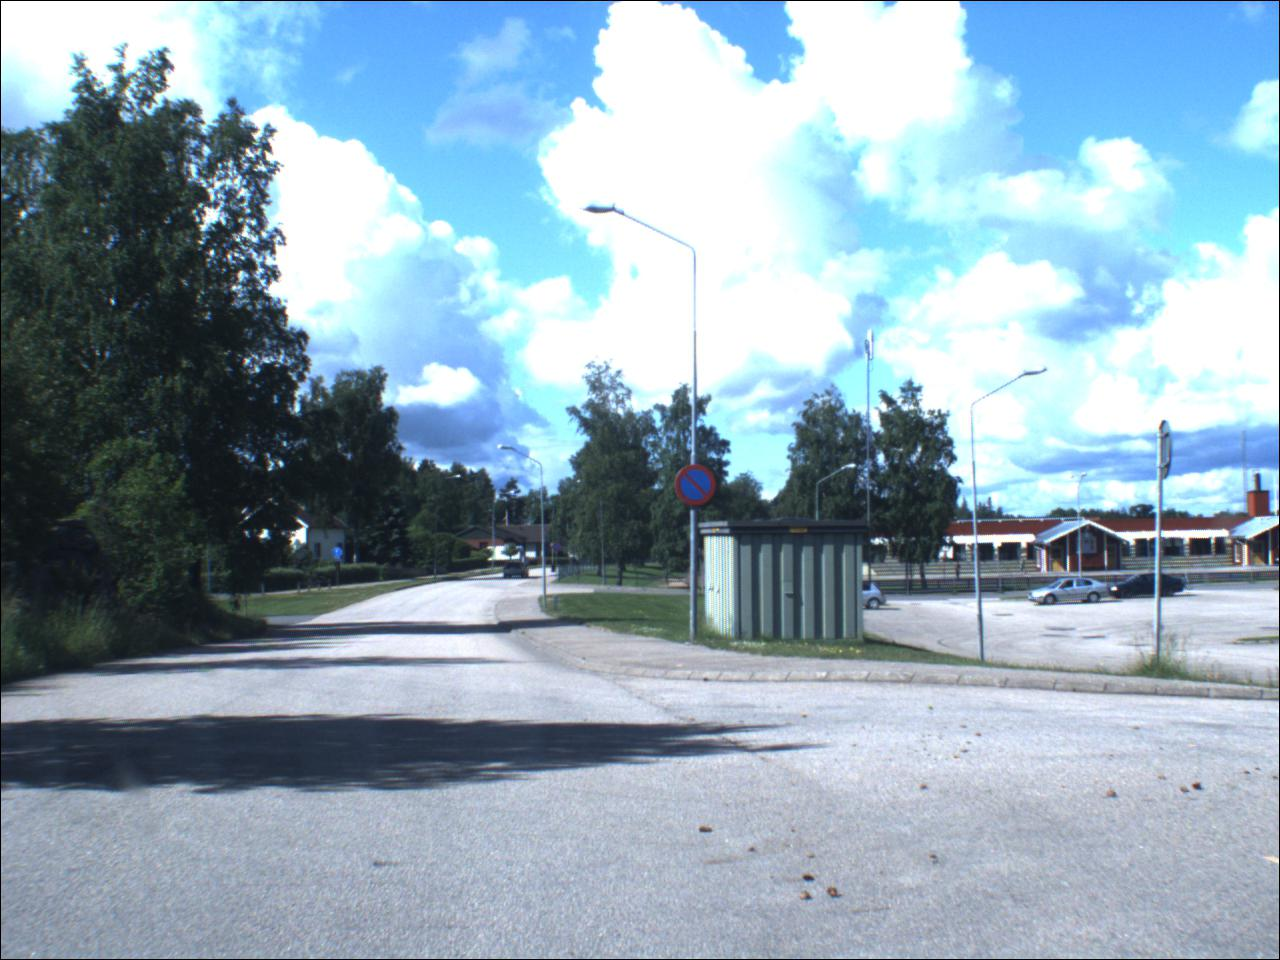NO_PARKING: (674, 464, 721, 516)
